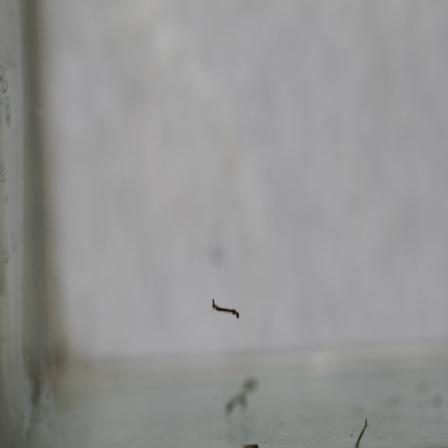Jentik-Nyamuk: (209, 295, 243, 322)
